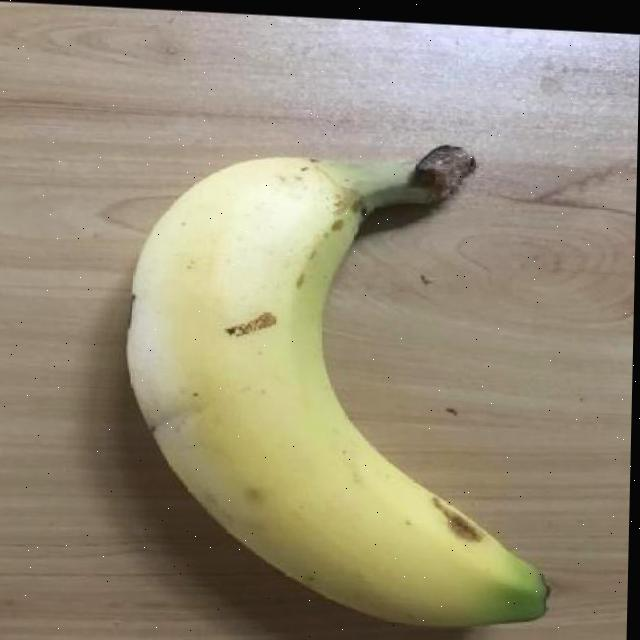banana: (121, 127, 566, 638)
